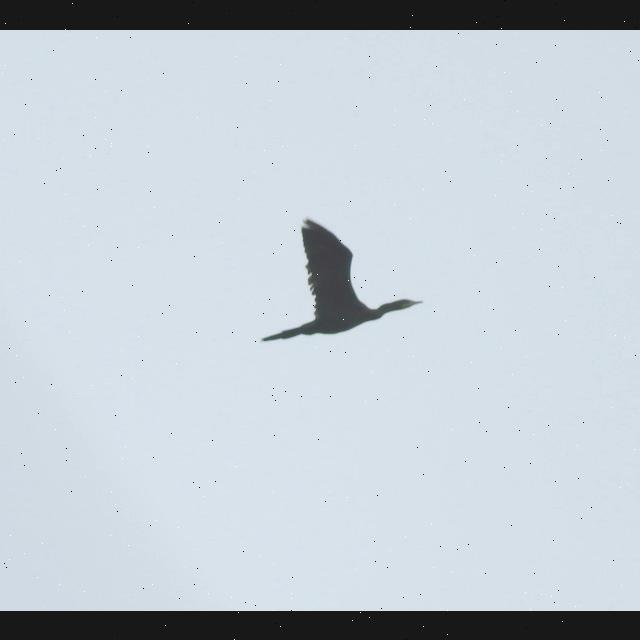cormorant: (251, 208, 439, 364)
